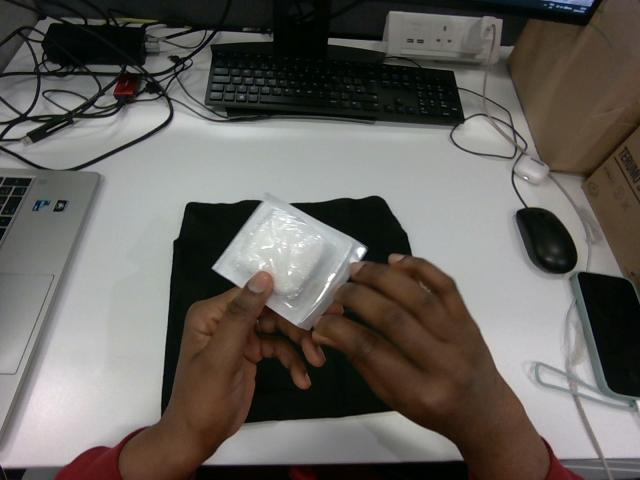gauze: (212, 195, 366, 328)
